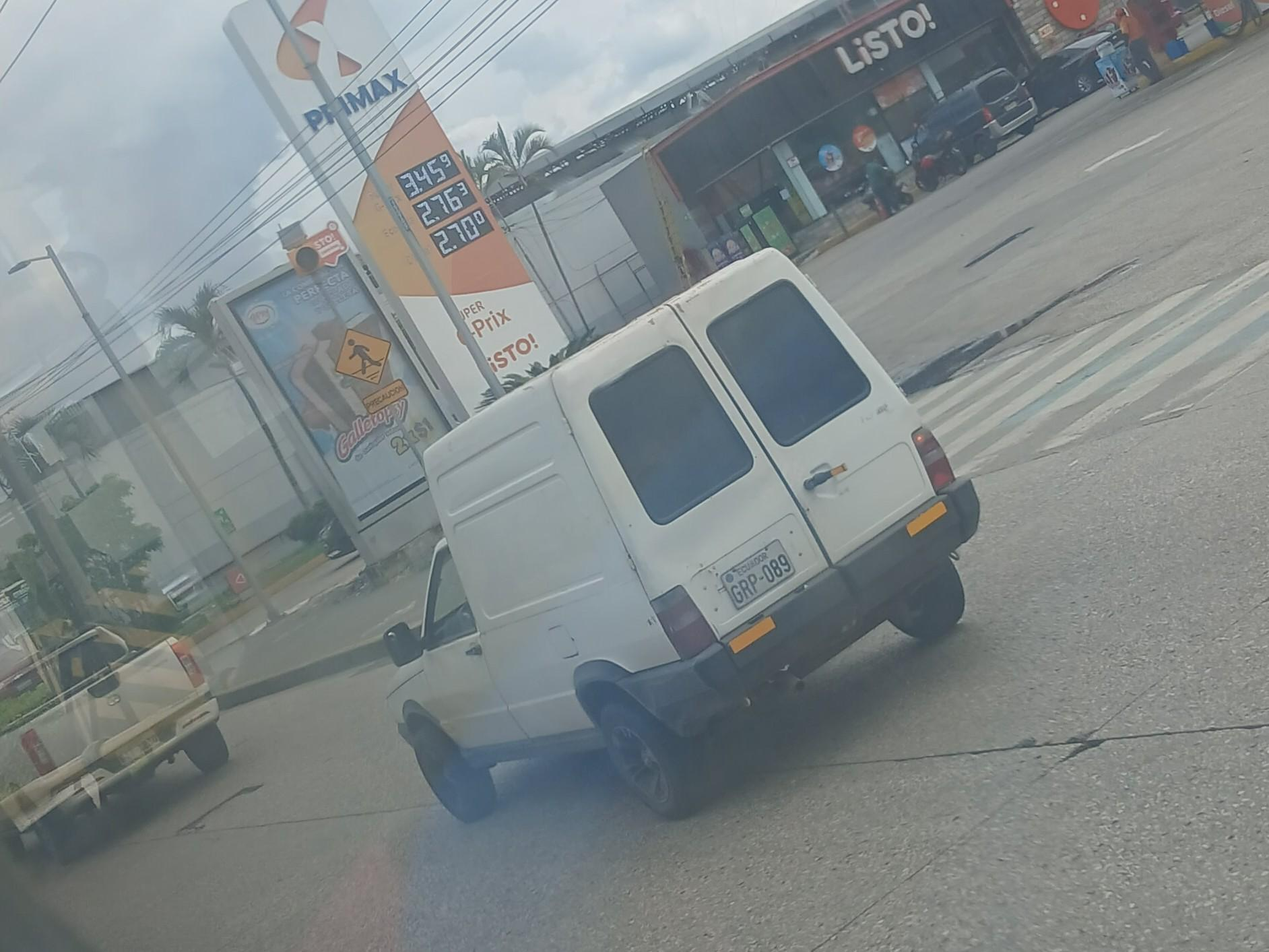license_plate: (719, 540, 797, 609), (114, 730, 164, 764)
